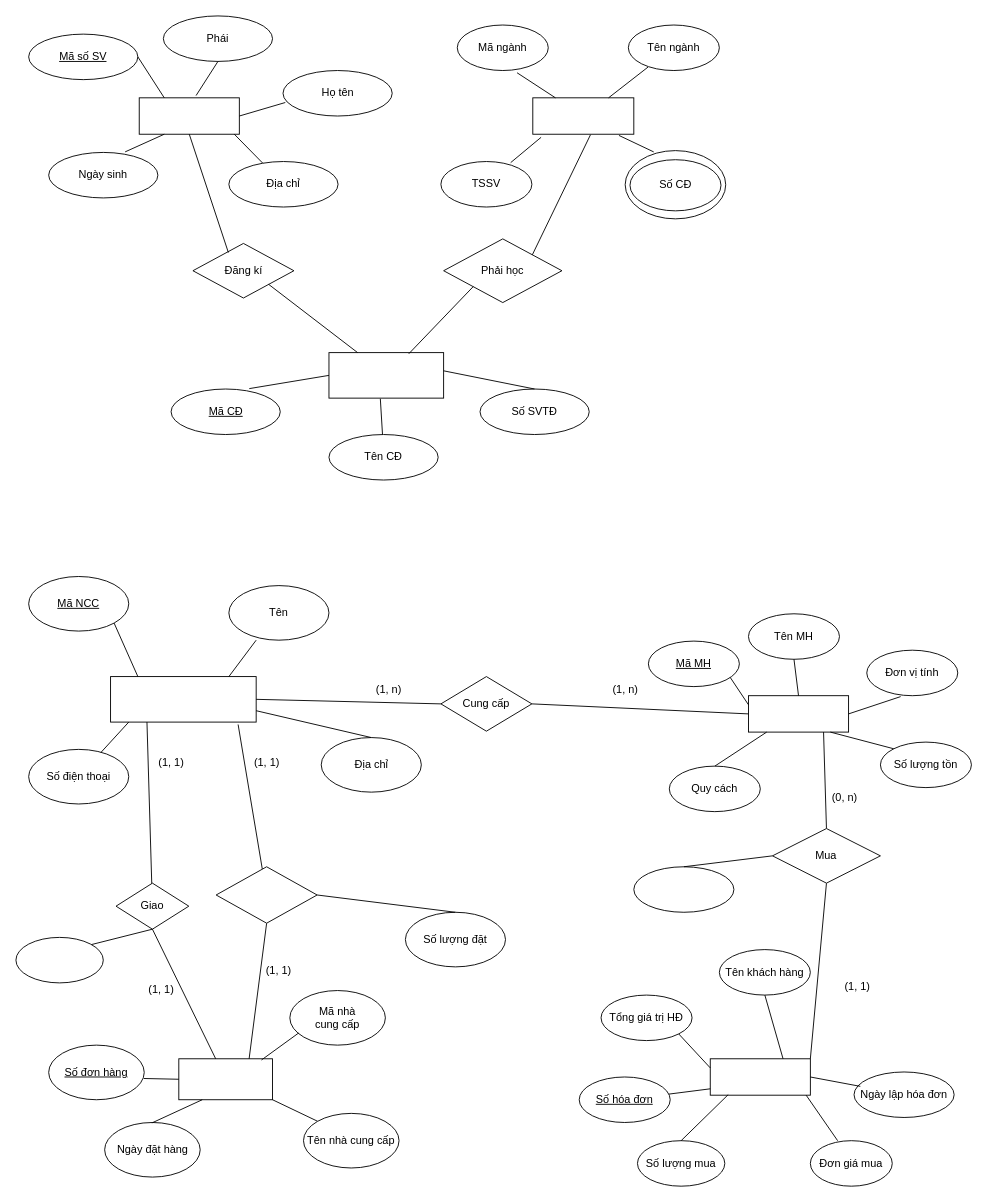
This 987x1202 diagram has some shape labels left out. Here are the shapes that lost their labels. From the top down, the box of each, then its label:
(138, 97, 239, 134): SINH VIÊN
(532, 97, 634, 134): NGÀNH
(328, 352, 444, 398): CHUYỂN ĐỀ
(110, 676, 256, 722): NHÀ CUNG CẤP
(748, 695, 849, 732): MẶT HÀNG
(215, 866, 317, 923): Đặt
(633, 866, 734, 912): Số lượng
(15, 936, 103, 983): Ngày giao
(178, 1058, 273, 1100): ĐƠN HÀNG
(709, 1058, 810, 1095): HÓA ĐƠN
